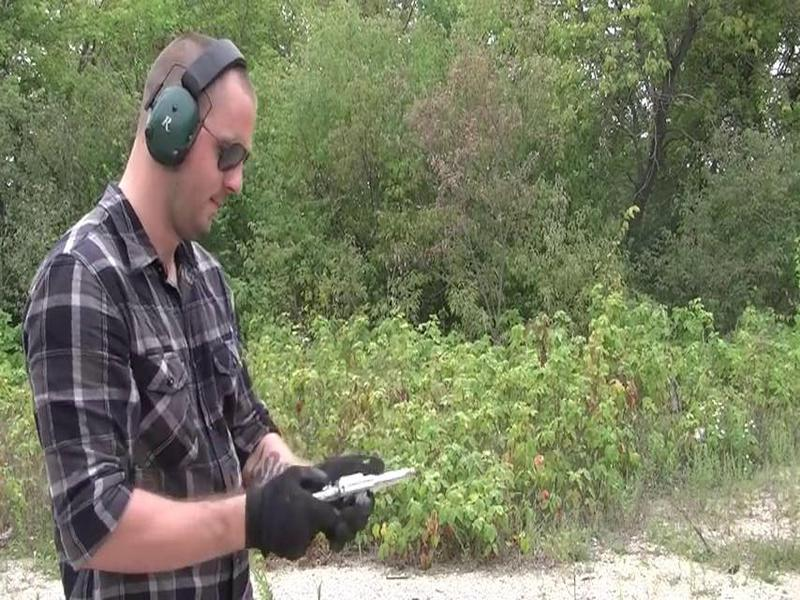Revolver: (270, 456, 431, 520)
